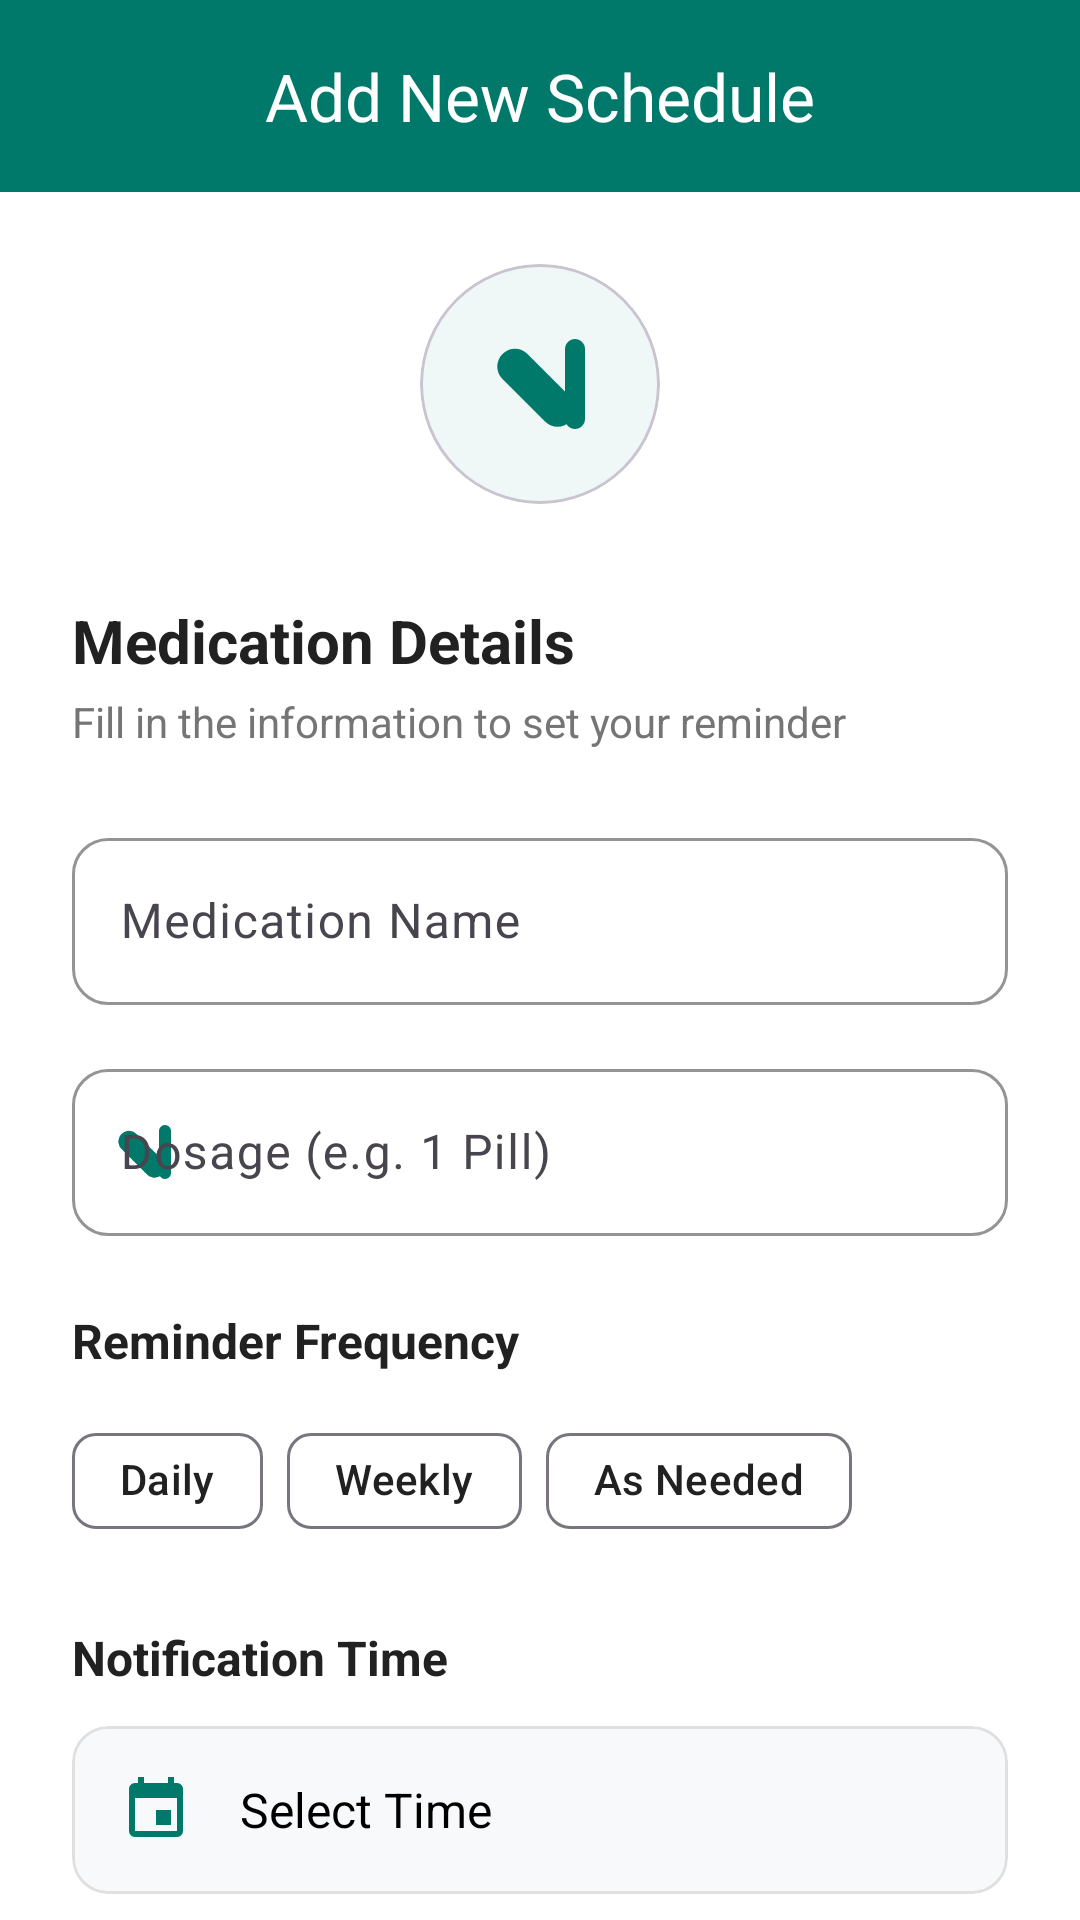

Icon bounding boxes for this 1080 × 1920 phone screenshot, format (x1, y1, x2, y2):
calendar: (129, 1777, 183, 1837)
